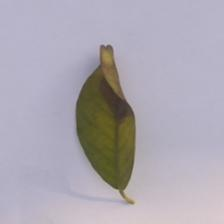black spot: (88, 62, 130, 114)
